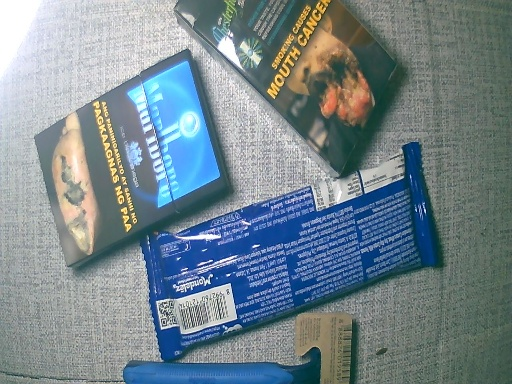cardboard: (172, 1, 415, 174), (36, 49, 216, 266)
plastic: (143, 140, 444, 358)
trash: (115, 315, 362, 384)
